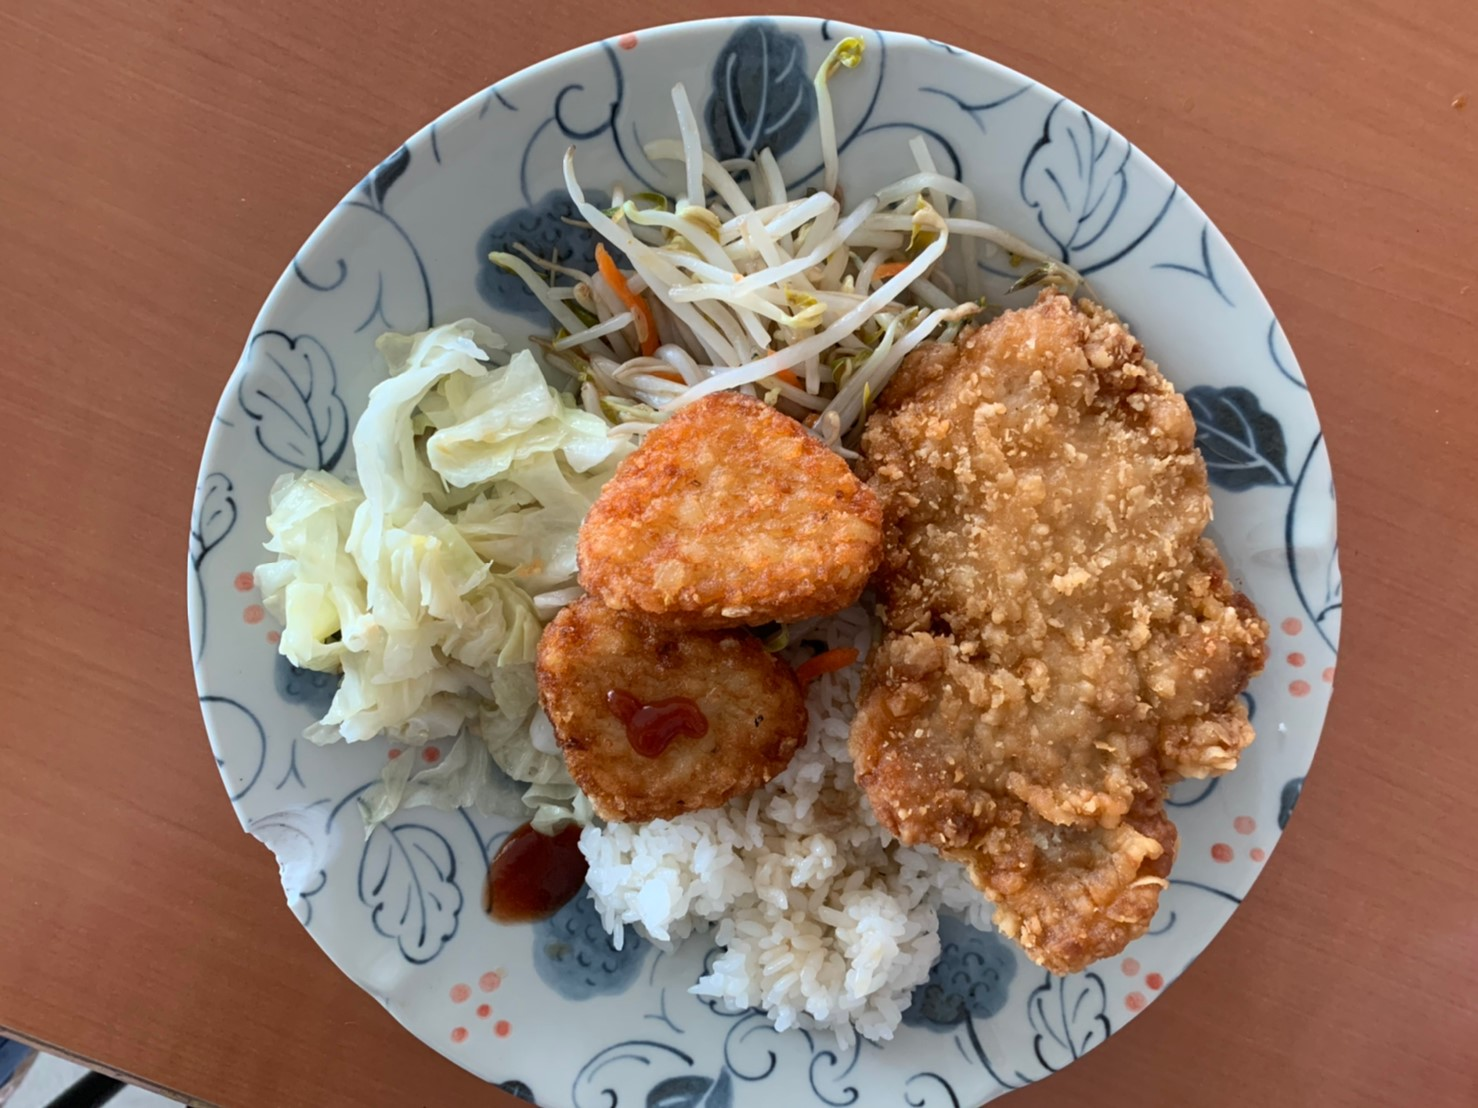chinese_cabbage: (282, 369, 564, 733)
fried_chicken: (875, 325, 1181, 953)
mung_bean_sprouts: (569, 111, 908, 395)
rice: (618, 809, 896, 993)
triangle_hash_brown: (556, 409, 865, 796)
